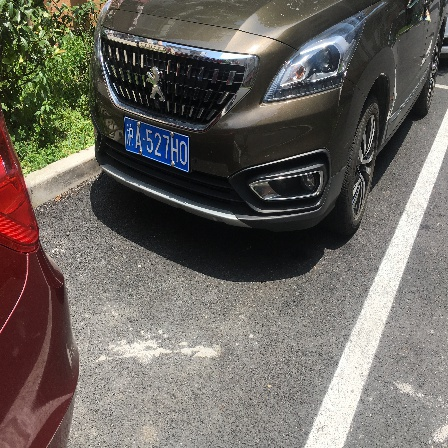plate: (115, 111, 200, 177)
